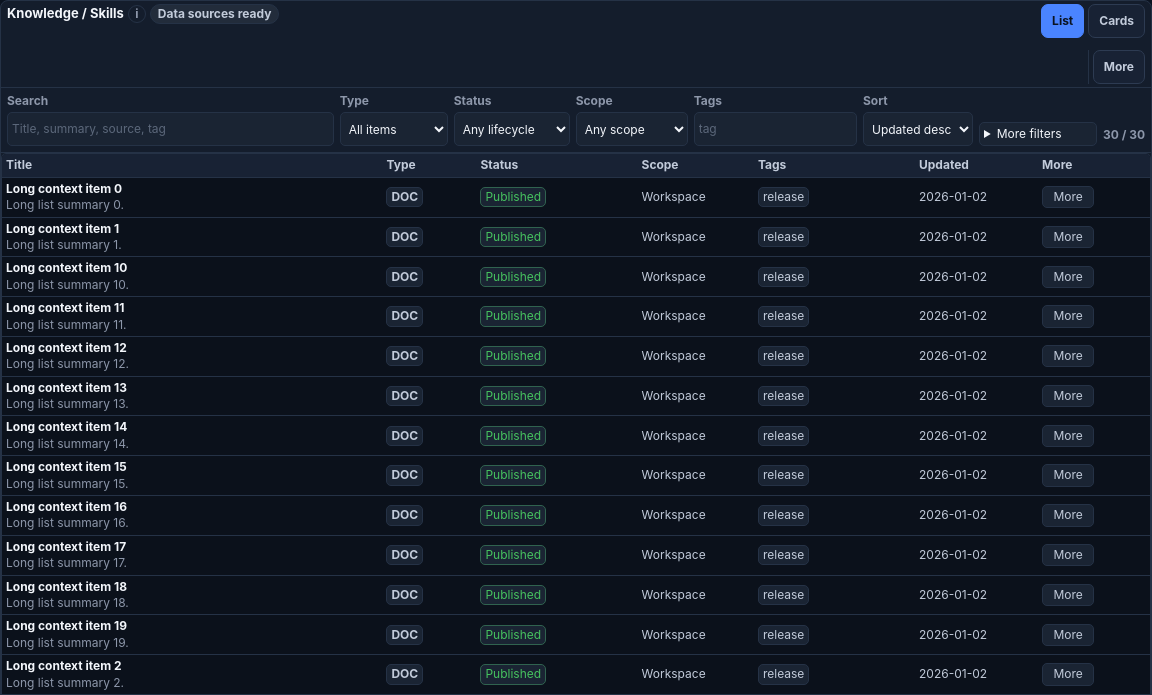
Scenario: KnowledgeV2 Use as Context popup › keeps long item lists inside the popup body while footer remains visible
Click the cell "Long context item 0 Long list summary 0.": (64, 188) [2, 178, 382, 217]
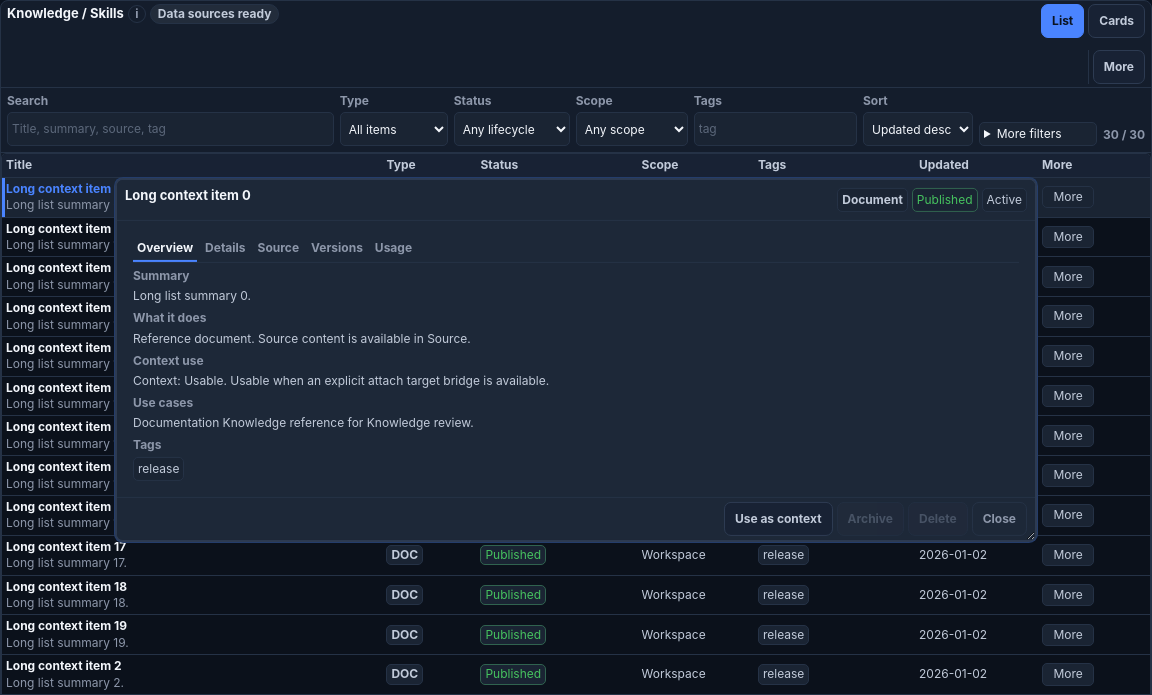
Now the button "Use as context" is shown
Click the button "Use as context": (778, 519) [724, 502, 832, 536]
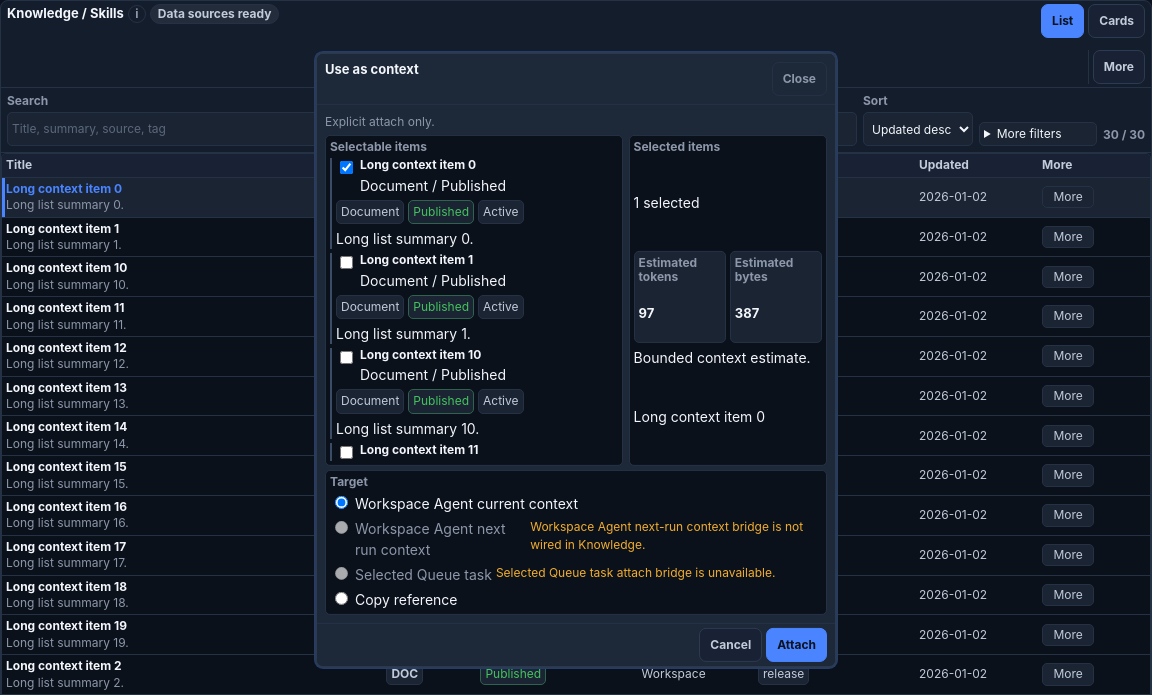
Now the footer shows "Cancel", box [699, 628, 762, 662]
Now the footer shows "Attach", box [766, 628, 827, 662]
